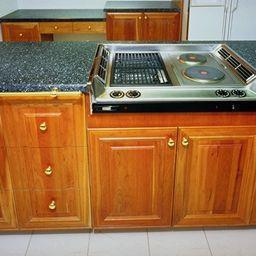Electrodomestico: (91, 40, 253, 112)
